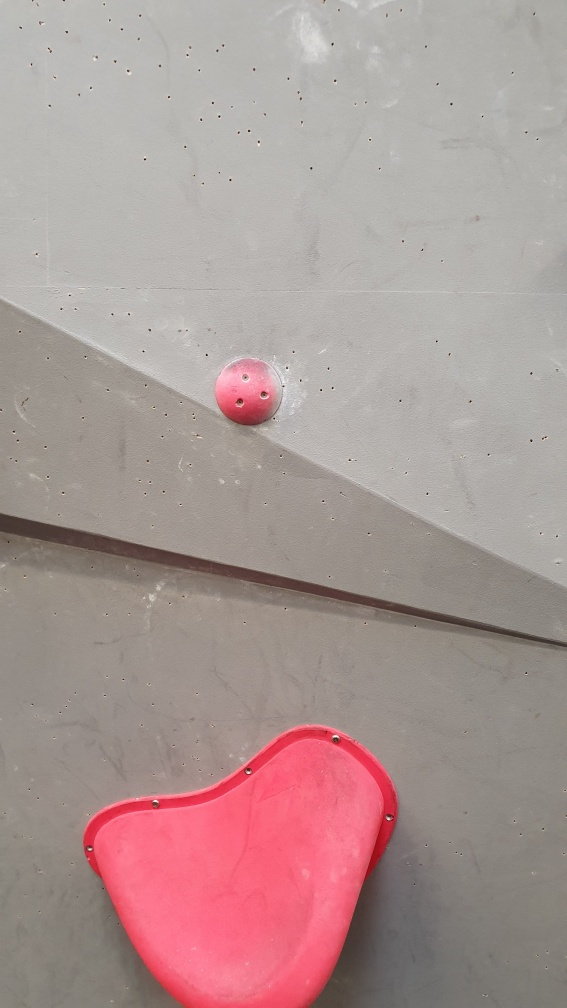Sloper: (212, 353, 287, 428)
